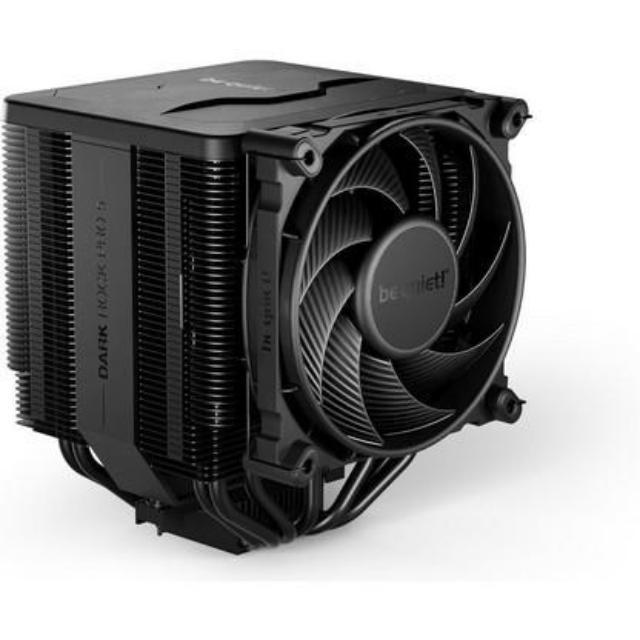CPU_Fan: (1, 56, 528, 562)
